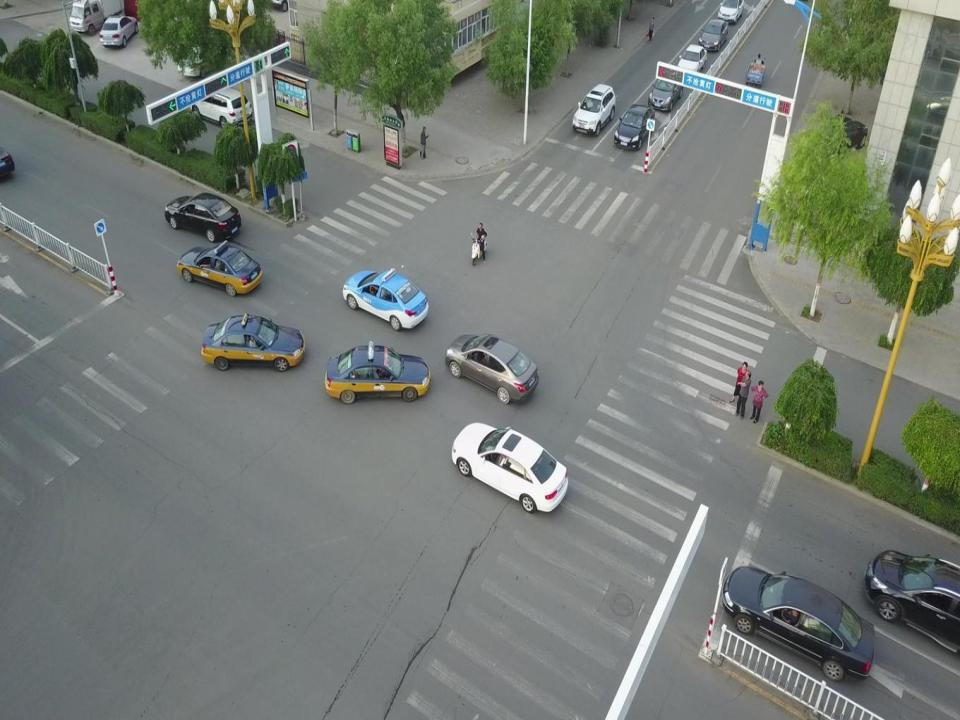car: (722, 564, 875, 681), (452, 420, 569, 514), (865, 548, 960, 644), (324, 339, 431, 404), (444, 332, 539, 405), (202, 310, 306, 371), (342, 268, 430, 330), (176, 241, 264, 297), (164, 191, 244, 240), (190, 86, 253, 129), (809, 115, 867, 156), (571, 84, 616, 136), (614, 103, 656, 150), (648, 73, 683, 111), (99, 15, 139, 48), (698, 19, 729, 51), (677, 44, 707, 72), (717, 0, 744, 24)
truck: (77, 0, 123, 37)
